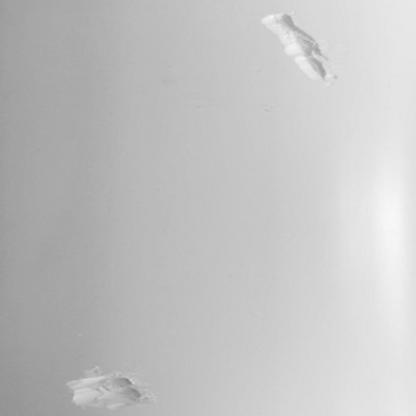sunshang: (265, 16, 332, 84), (67, 370, 147, 410)
